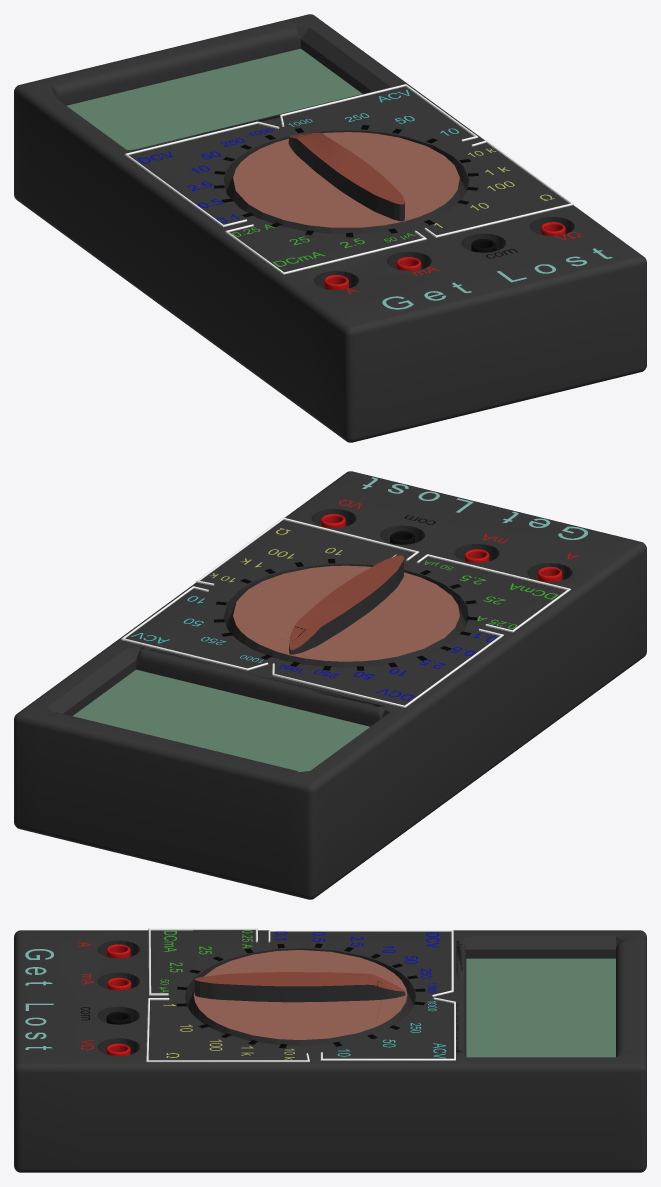
File: threemeter.FBX
3 views of the same model, one above another, from view 1: azimuth 30°, elevation 25°; view 2: azimuth 150°, elevation 25°; view 3: azimuth 270°, elevation 25° (orthographic). The views are drawn at different scales.
Visible parts, largest first — view 1: ChamferBox001; view 2: ChamferBox001; view 3: ChamferBox001.
Boxes of the visible parts, left/top/right/bottom form: ChamferBox001: left=14, top=14, right=646, bottom=442; ChamferBox001: left=14, top=471, right=646, bottom=899; ChamferBox001: left=14, top=928, right=646, bottom=1172.
Size of the model in its own units: 75 by 32.03 by 145.
